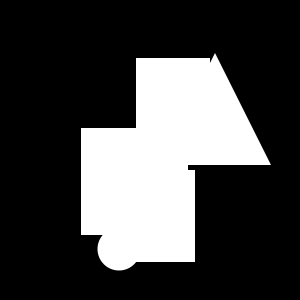circle: (81, 128, 188, 235), (103, 170, 195, 262), (136, 58, 210, 132)
rectangle: (98, 228, 140, 270)
triangle: (159, 53, 271, 165)
